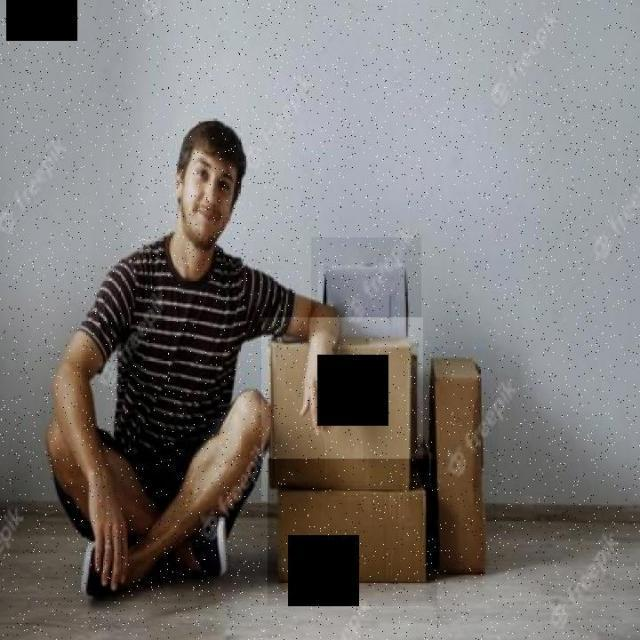box: (261, 318, 423, 502), (268, 459, 438, 607), (427, 348, 498, 588), (311, 237, 421, 360)
